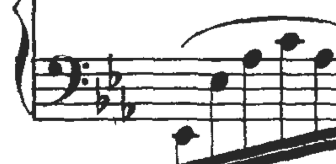bass_clef: (43, 46, 93, 108)
flat: (103, 51, 125, 95), (117, 82, 138, 127), (93, 76, 111, 120)
